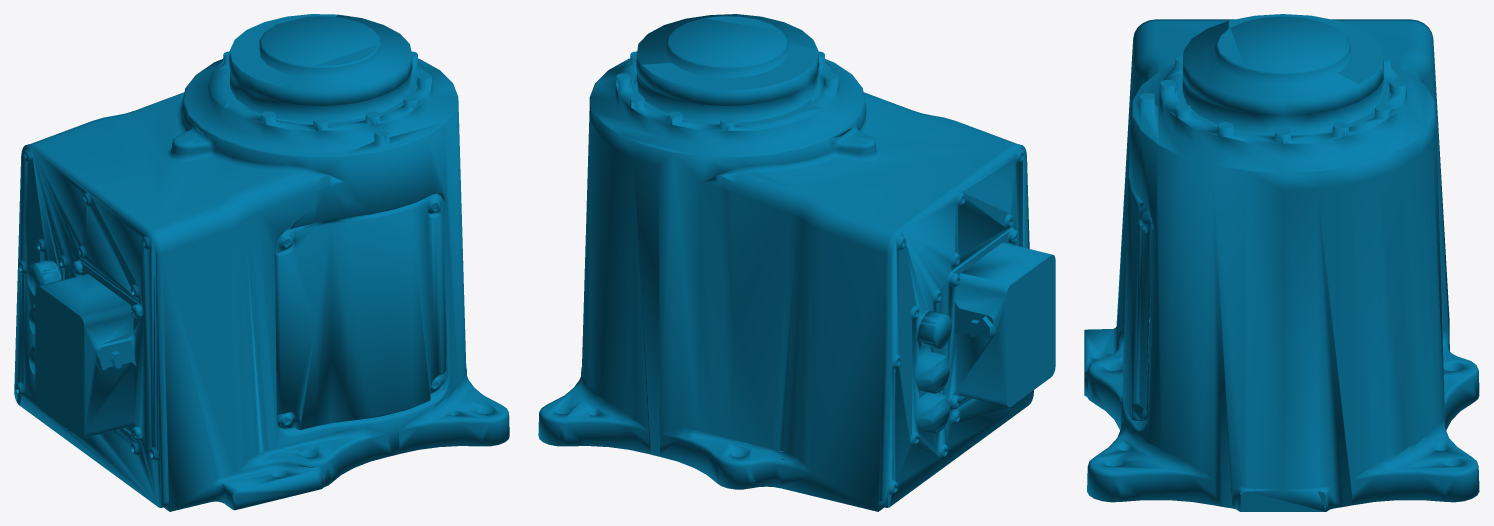
3 views of the same model, side by side, from view 1: azimuth 30°, elevation 25°; view 2: azimuth 150°, elevation 25°; view 3: azimuth 270°, elevation 25° (orthographic). The views are drawn at different scales.
Parts seen in each view (by area): view 1: base_link; view 2: base_link; view 3: base_link.
Boxes of the visible parts, x1,y1,x2,y2 form: base_link: [14, 14, 509, 511]; base_link: [538, 14, 1055, 511]; base_link: [1084, 14, 1479, 511].
Bounding box in the file's own units: 0.2316 × 0.1749 × 0.195.
